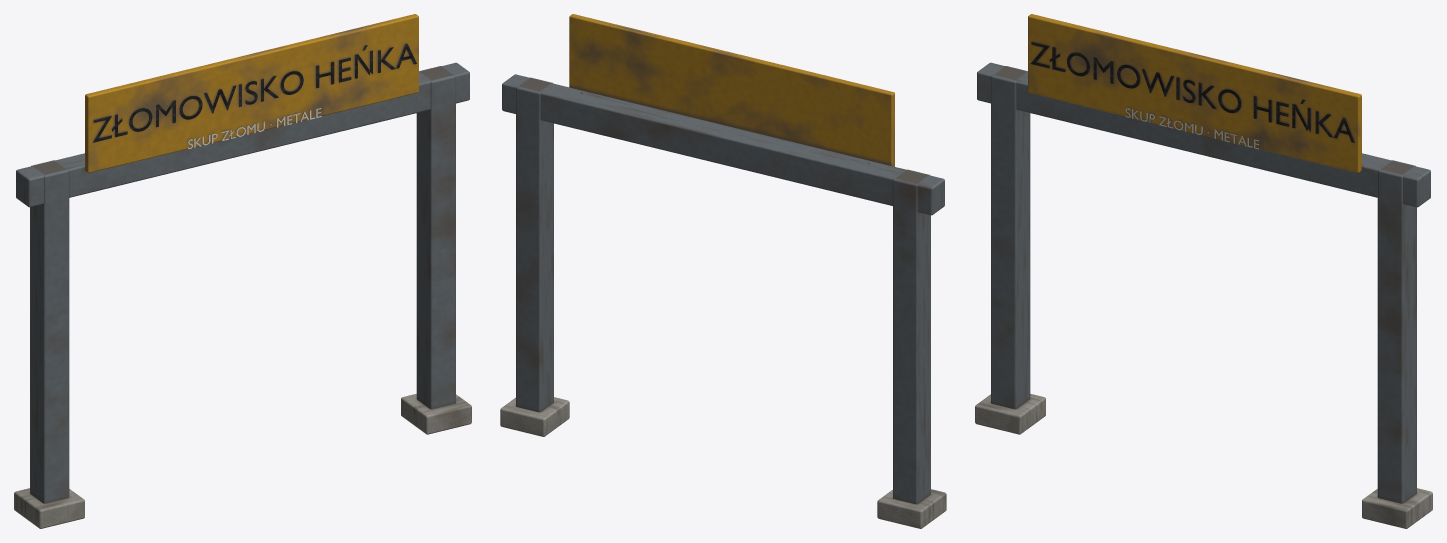
File: zlom_brama.glb
3 renders of one model, left to right at view 1: azimuth 30°, elevation 25°; view 2: azimuth 150°, elevation 25°; view 3: azimuth 330°, elevation 25°, orthographic. The views are drawn at different scales.
Parts seen in each view (by area): view 1: Brama, Napisy; view 2: Brama; view 3: Brama, Napisy.
Boxes of the visible parts, left/top/right/bottom form: Brama: left=14, top=14, right=471, bottom=528; Napisy: left=93, top=43, right=416, bottom=149; Brama: left=500, top=14, right=946, bottom=528; Brama: left=975, top=14, right=1432, bottom=528; Napisy: left=1030, top=42, right=1354, bottom=149.
Size of the model in its own units: 4.8 by 4.35 by 0.5.
Materials: 2 (2 with a texture image).
